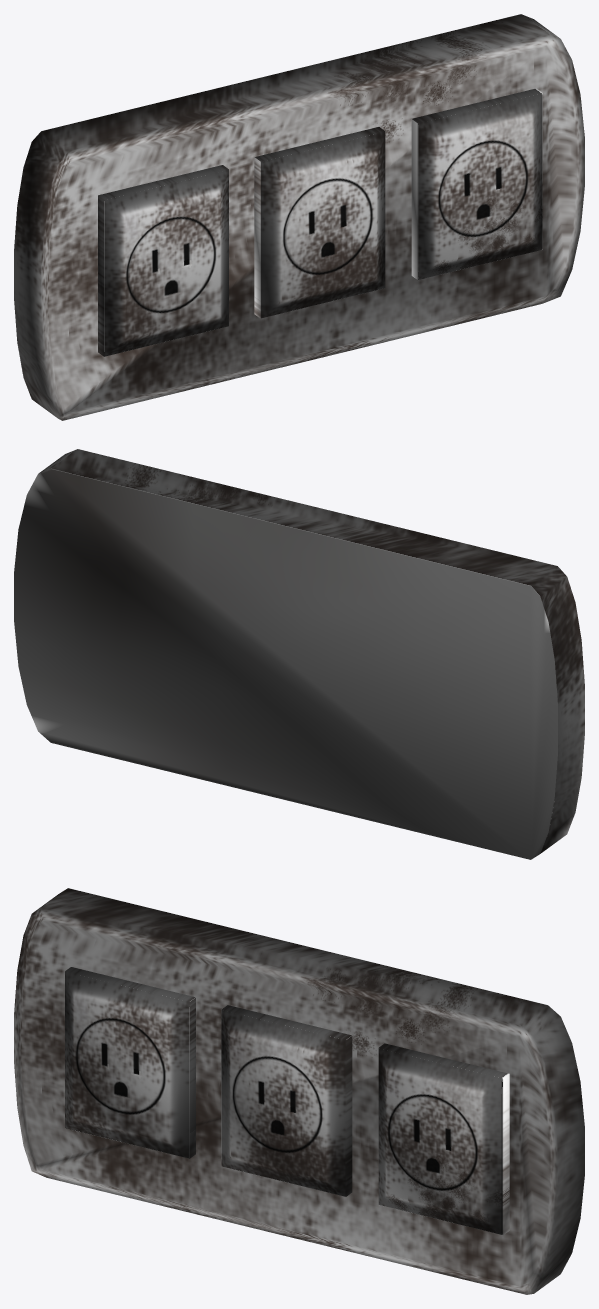
Rendered from Groupe_Outlet.fbx.
The picture shows the model from 3 angles, top to bottom: view 1: azimuth 30°, elevation 25°; view 2: azimuth 150°, elevation 25°; view 3: azimuth 330°, elevation 25°; orthographic projection.
Parts seen in each view (by area): view 1: Outet_2_no_holes4; view 2: Outet_2_no_holes4; view 3: Outet_2_no_holes4.
Part boxes in pixels (x1,y1,x2,y2): Outet_2_no_holes4: (14, 14, 584, 420); Outet_2_no_holes4: (14, 449, 584, 859); Outet_2_no_holes4: (14, 888, 584, 1294).
Bounding box in the file's own units: 10.96 × 5.28 × 1.35.
